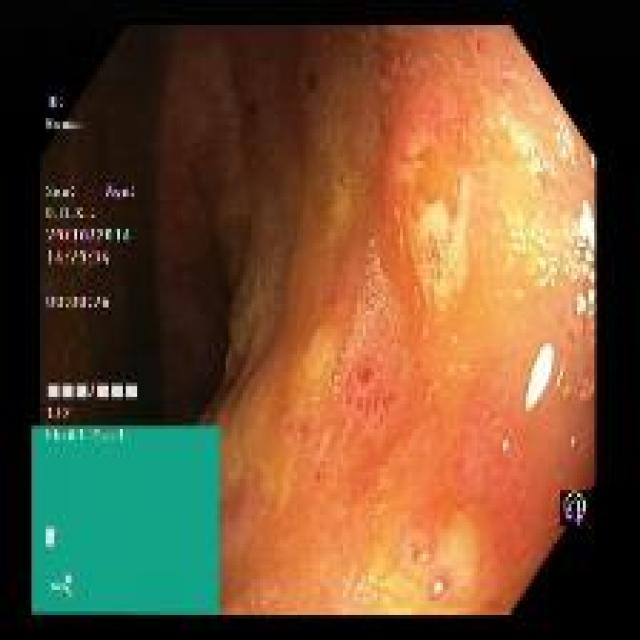ulcerative-colitis: (205, 28, 595, 613)
